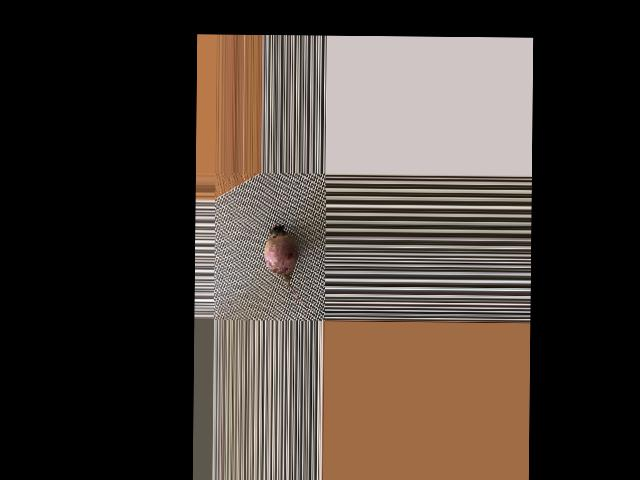beet: (264, 222, 312, 310)
